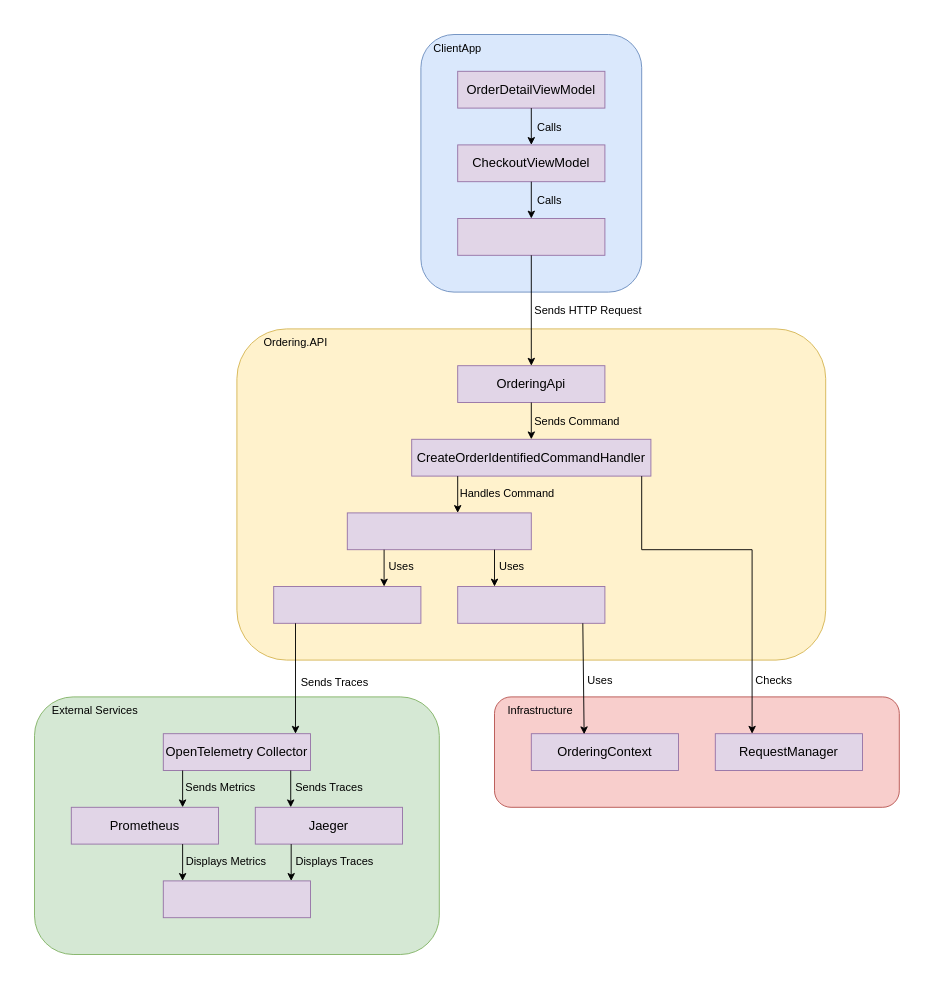
Some shapes in this 933 by 988 pixel diagram are drawn without their labels. The shapes that lost their labels are listed below. From the top down, each one's centre as x and y in pixels, then its label:
At (531,236): "OrderService".
At (438,531): "CreateOrderCommandHandler".
At (347,604): "OrderingTelemetry".
At (531,604): "OrderRepository".
At (236,899): "Grafana".
